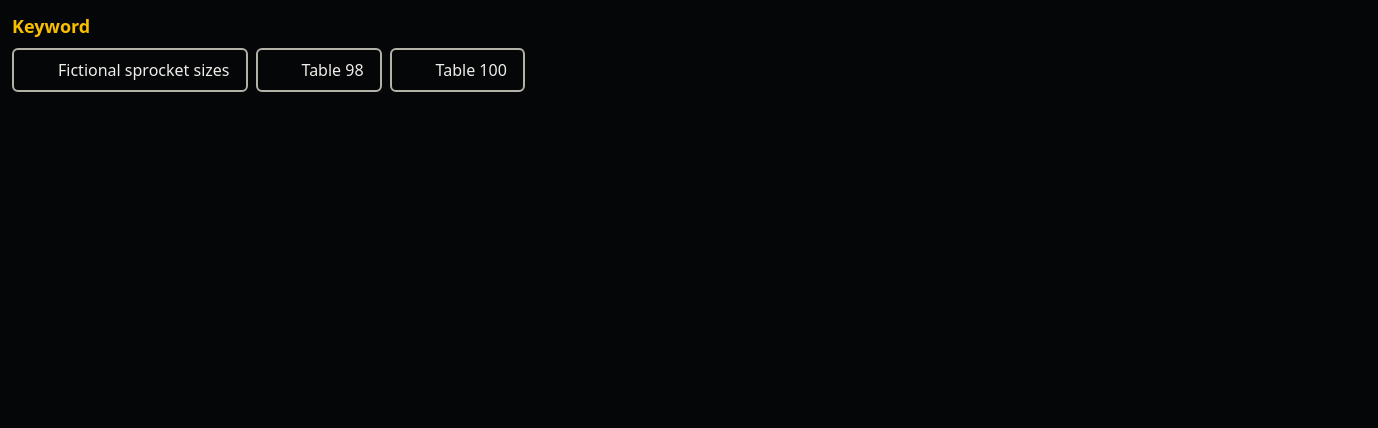
StepFlow under Table of Contents Lookup › shows a non-interactive Row line after the Table pick in Chapter 9
Click the button "Fictional sprocket sizes" at (130, 70), box x1=12 y1=48 x2=248 y2=92
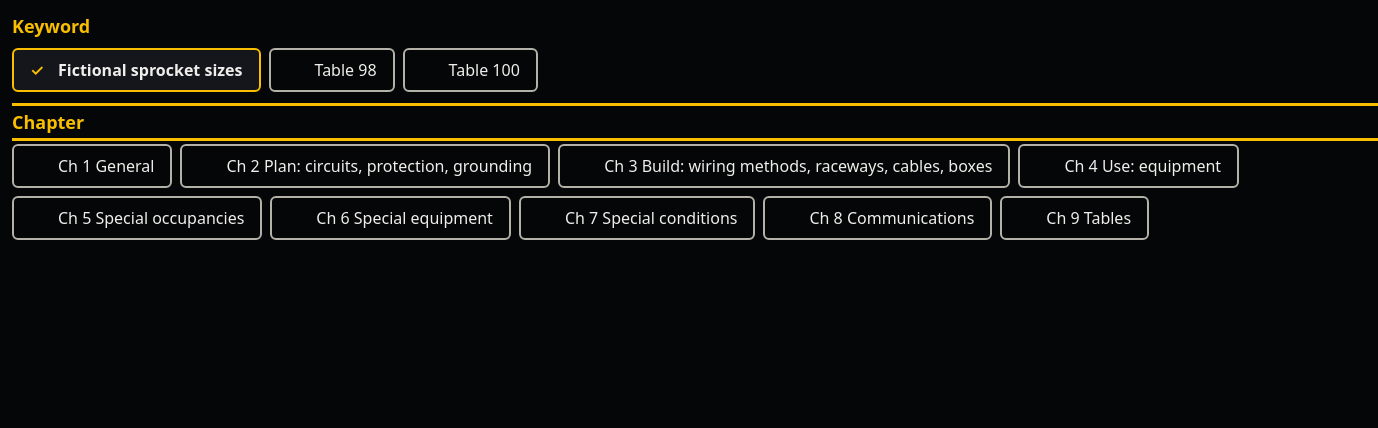
Click the button "Ch 9 Tables" at (1075, 218), box x1=1000 y1=196 x2=1149 y2=240
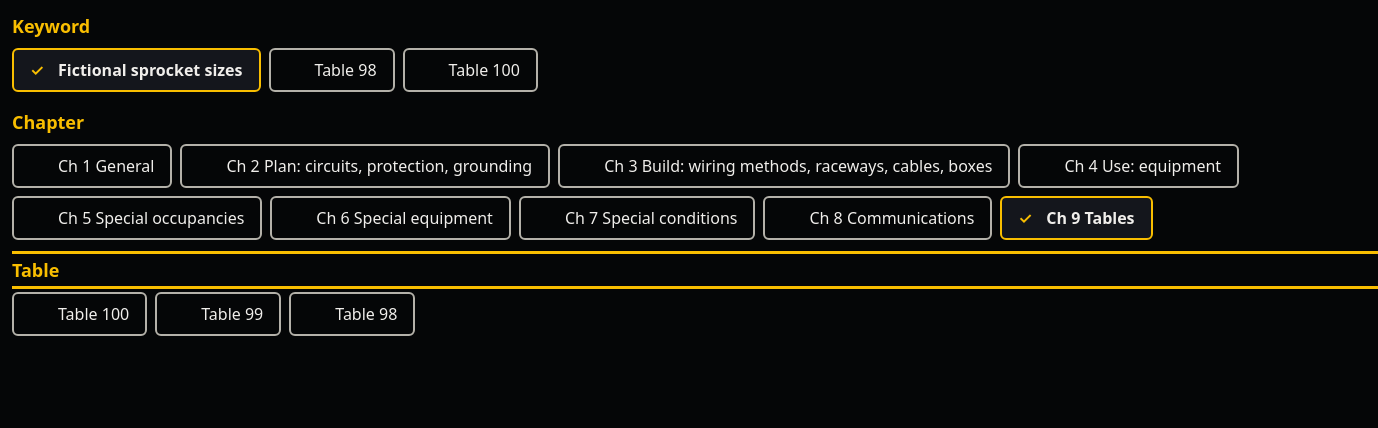
Expected: the heading "Row" is not shown
Click the button "Table 99" at (218, 314), box x1=155 y1=292 x2=281 y2=336
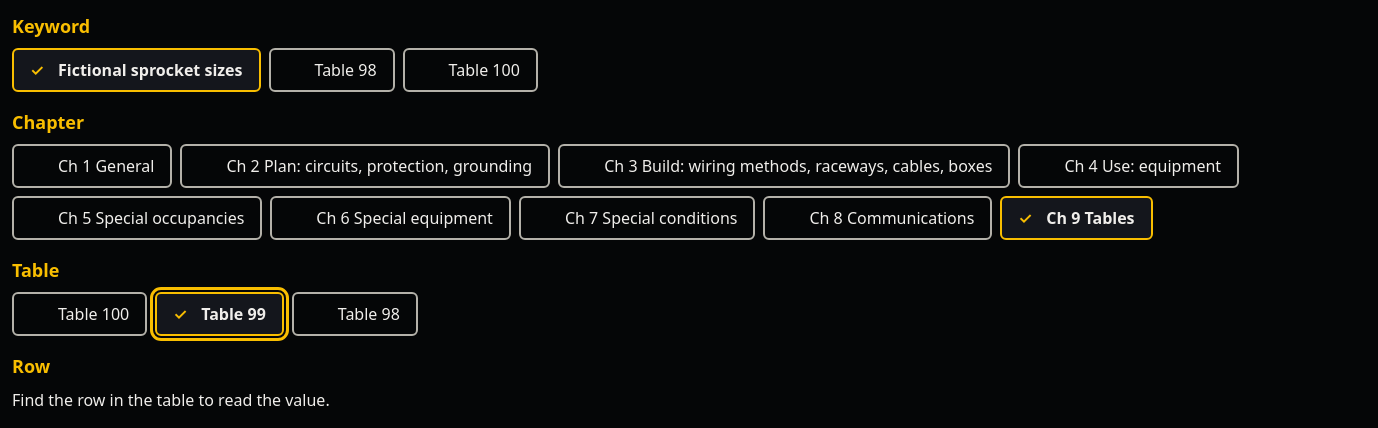
Expected: the element "Row" shows "Find the row in the table to read the value.", x1=12 y1=389 x2=330 y2=411
